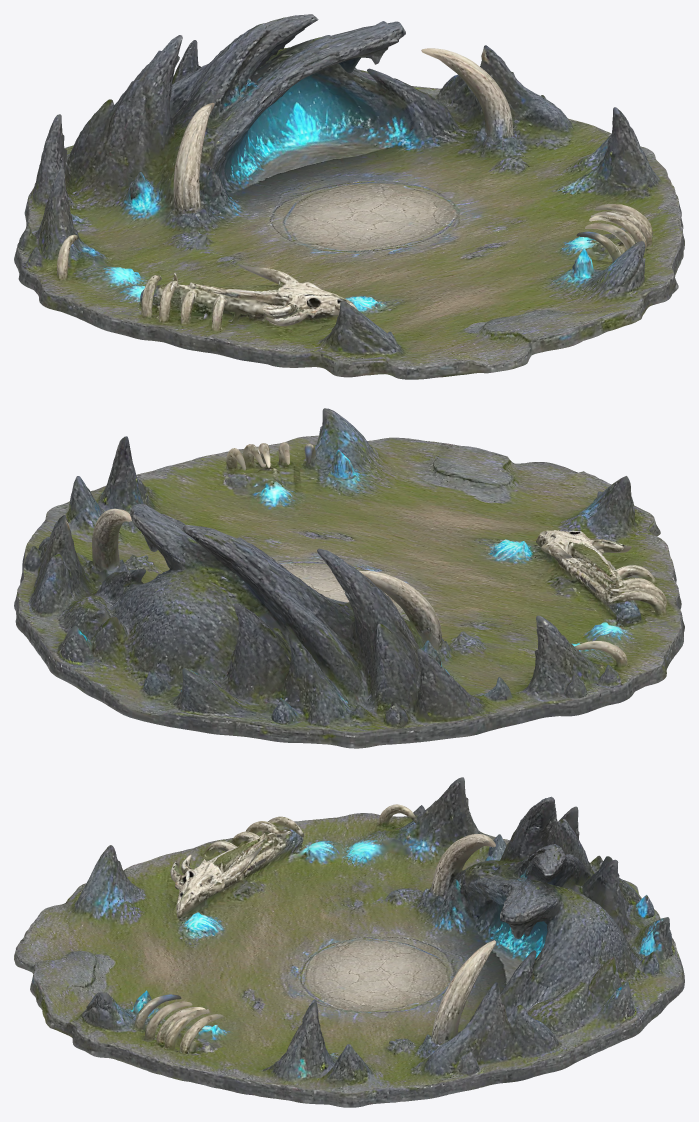
File: boss2_territory_opt.glb
3 renders of one model, top to bottom at view 1: azimuth 30°, elevation 25°; view 2: azimuth 150°, elevation 25°; view 3: azimuth 270°, elevation 25°, orthographic. The views are drawn at different scales.
Visible parts, largest first — view 1: TerritoryMesh; view 2: TerritoryMesh; view 3: TerritoryMesh.
Boxes of the visible parts, x1,y1,x2,y2 form: TerritoryMesh: (14, 14, 684, 379); TerritoryMesh: (14, 408, 684, 748); TerritoryMesh: (14, 777, 684, 1107).
Bounding box in the file's own units: 1.16 × 0.2602 × 1.16.
1 material, 1 textured.
